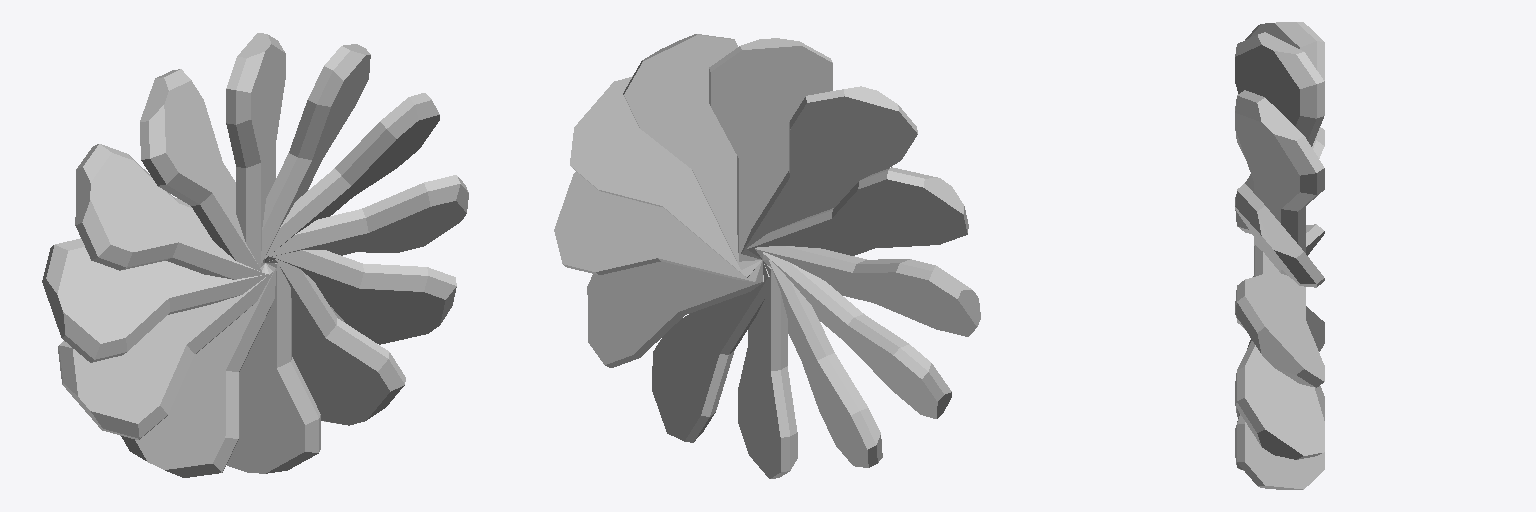
Rendered from SpeedUpgradeB2.obj.
3 views of the same model, side by side, from view 1: azimuth 30°, elevation 25°; view 2: azimuth 150°, elevation 25°; view 3: azimuth 270°, elevation 25° (orthographic).
Visible parts, largest first — view 1: pCube28 SpeedUpgradeB_Parts; view 2: pCube28 SpeedUpgradeB_Parts; view 3: pCube28 SpeedUpgradeB_Parts.
Boxes of the visible parts, <box> form: pCube28 SpeedUpgradeB_Parts: <box>42,33,468,477</box>; pCube28 SpeedUpgradeB_Parts: <box>554,34,980,478</box>; pCube28 SpeedUpgradeB_Parts: <box>1235,22,1324,489</box>.
Bounding box in the file's own units: 0.3452 × 0.3452 × 0.0661.